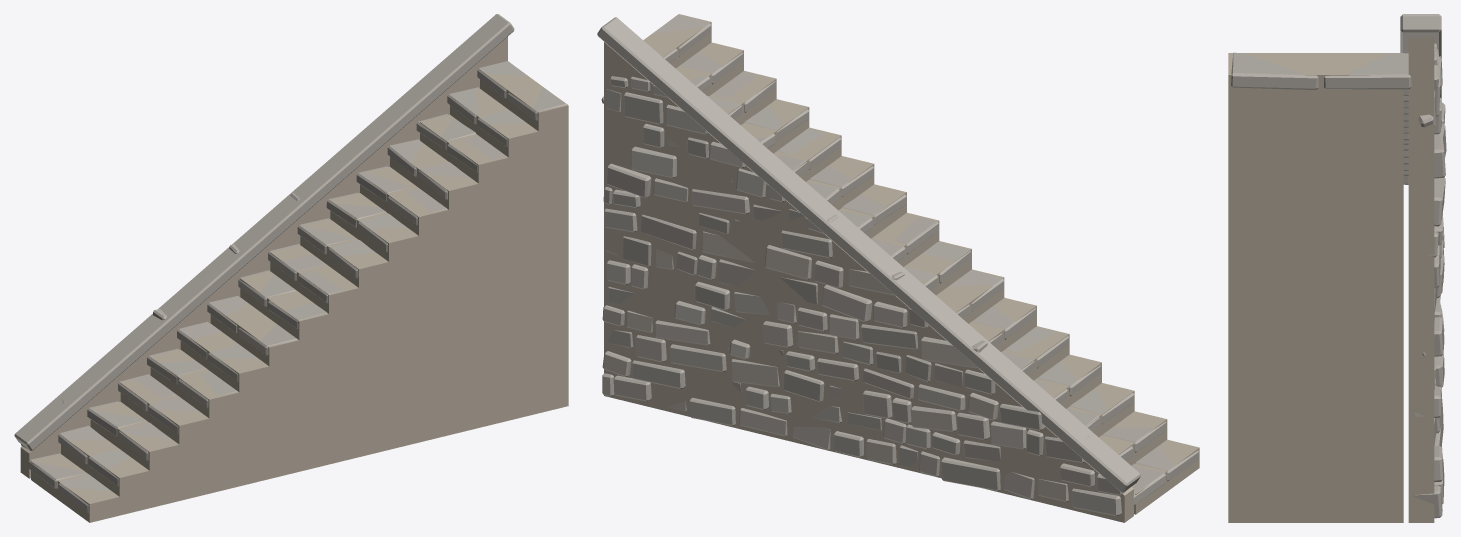
The model's file is W04_登城石阶.fbx.
The picture shows the model from 3 angles, left to right: view 1: azimuth 30°, elevation 25°; view 2: azimuth 150°, elevation 25°; view 3: azimuth 270°, elevation 25°; orthographic projection. The views are drawn at different scales.
Parts seen in each view (by area): view 1: W04_台阶_芯, W04_台阶_踏步石, W04_护墙_压顶, W04_护墙_芯; view 2: W04_护墙, W04_护墙_芯, W04_台阶_芯, W04_护墙_压顶, W04_台阶_踏步石; view 3: W04_台阶_芯, W04_护墙_芯, W04_护墙, W04_台阶_踏步石, W04_护墙_压顶.
Boxes of the visible parts, x1,y1,x2,y2 form: W04_台阶_芯: (31,69,568,522); W04_台阶_踏步石: (28,61,567,512); W04_护墙_压顶: (14,14,514,450); W04_护墙_芯: (20,37,507,478); W04_护墙: (601,76,1129,516); W04_护墙_芯: (604,42,1133,522); W04_台阶_芯: (643,14,1199,514); W04_护墙_压顶: (597,17,1140,492); W04_台阶_踏步石: (652,14,1199,505); W04_台阶_芯: (1228,53,1403,522); W04_护墙_芯: (1408,37,1434,522); W04_护墙: (1413,43,1446,518); W04_台阶_踏步石: (1231,52,1411,184); W04_护墙_压顶: (1400,14,1441,98).
Bounding box in the file's own units: 815 × 545 × 212.
